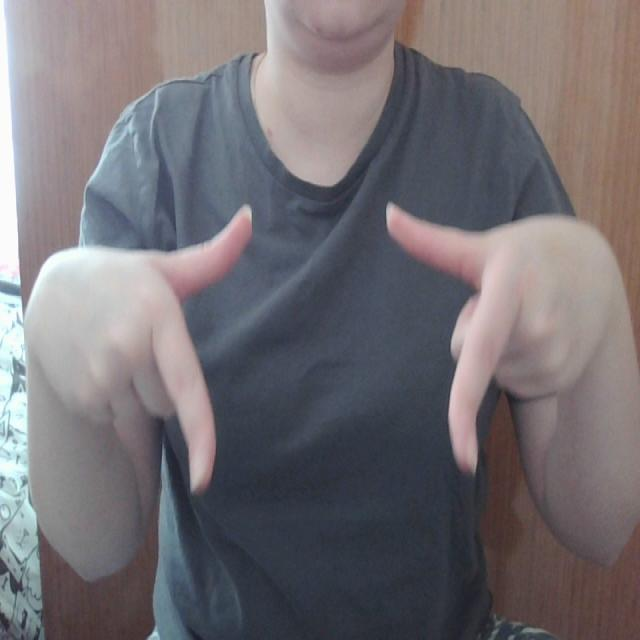Nerede: (142, 196, 512, 500)
